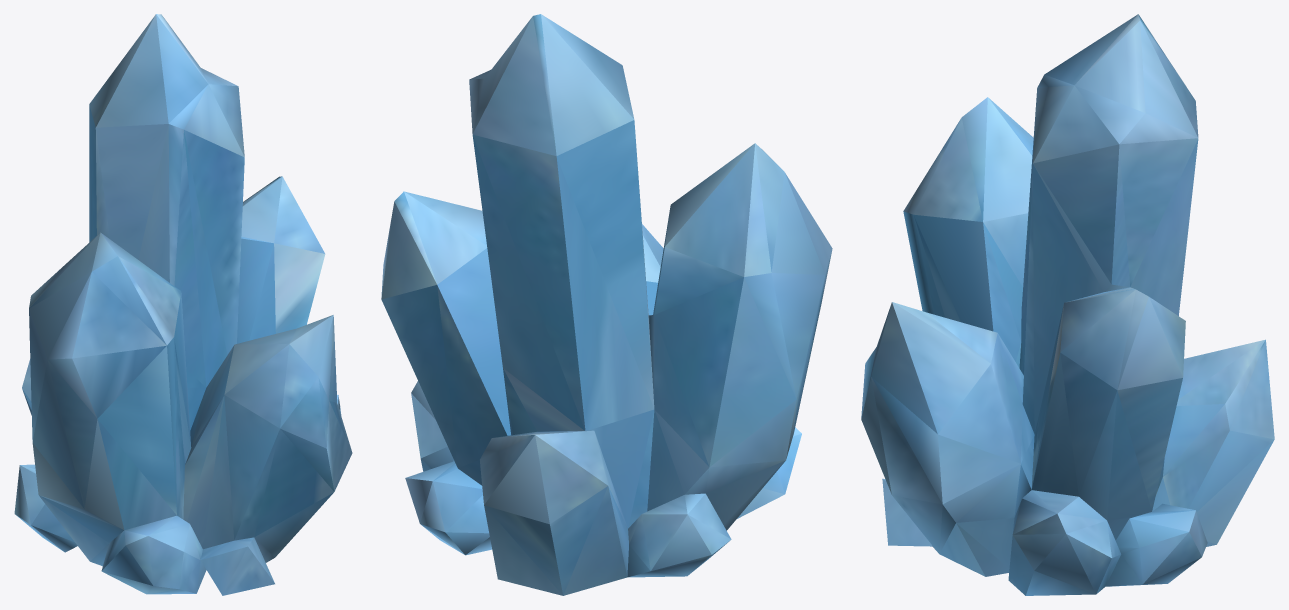
Rendered from racimo_hielo_p_300.glb.
The picture shows the model from 3 angles, left to right: view 1: azimuth 30°, elevation 25°; view 2: azimuth 150°, elevation 25°; view 3: azimuth 270°, elevation 25°; orthographic projection. The views are drawn at different scales.
Parts seen in each view (by area): view 1: racimo_hielo_p_malla; view 2: racimo_hielo_p_malla; view 3: racimo_hielo_p_malla.
Boxes of the visible parts, box(x1,y1,x2,y2) form: racimo_hielo_p_malla: box(14, 14, 352, 595); racimo_hielo_p_malla: box(381, 14, 832, 595); racimo_hielo_p_malla: box(861, 14, 1274, 595).
Bounding box in the file's own units: 0.1223 × 0.1699 × 0.1201.
Materials: 1 (1 with a texture image).
